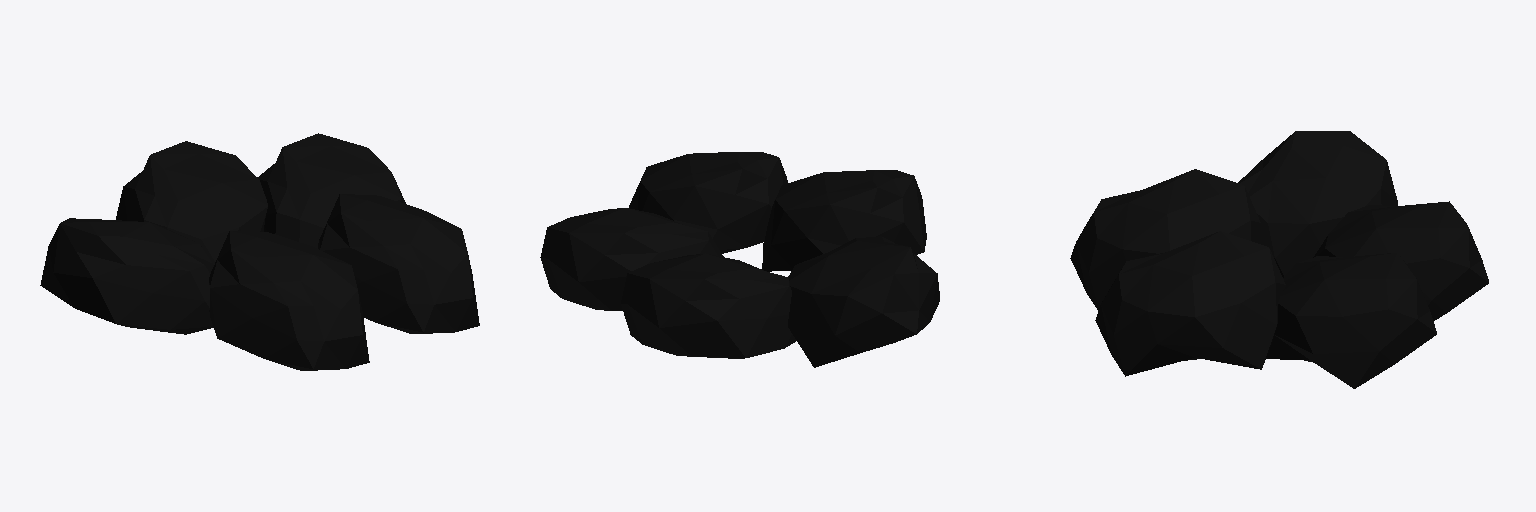
File: lava_out.obj
3 views of the same model, side by side, from view 1: azimuth 30°, elevation 25°; view 2: azimuth 150°, elevation 25°; view 3: azimuth 270°, elevation 25° (orthographic).
Bounding box in the file's own units: 1.3 × 0.3682 × 1.29.